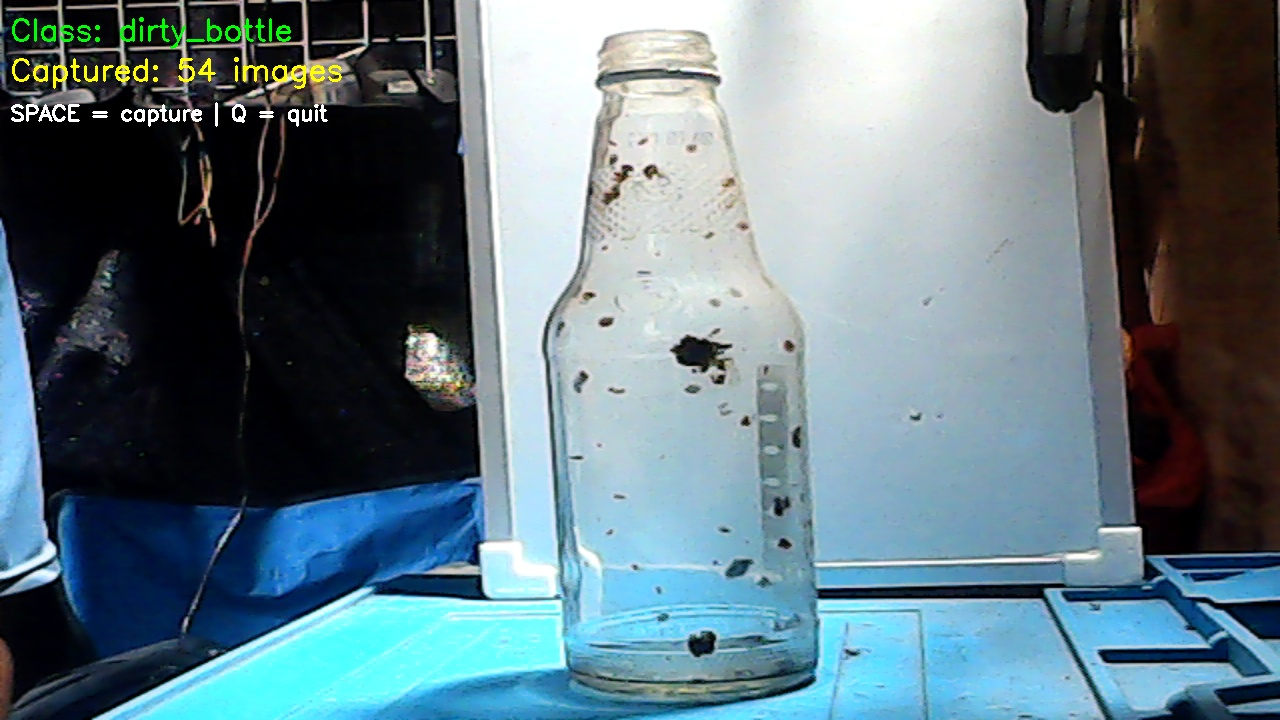dirty_bottle: (517, 15, 820, 703)
